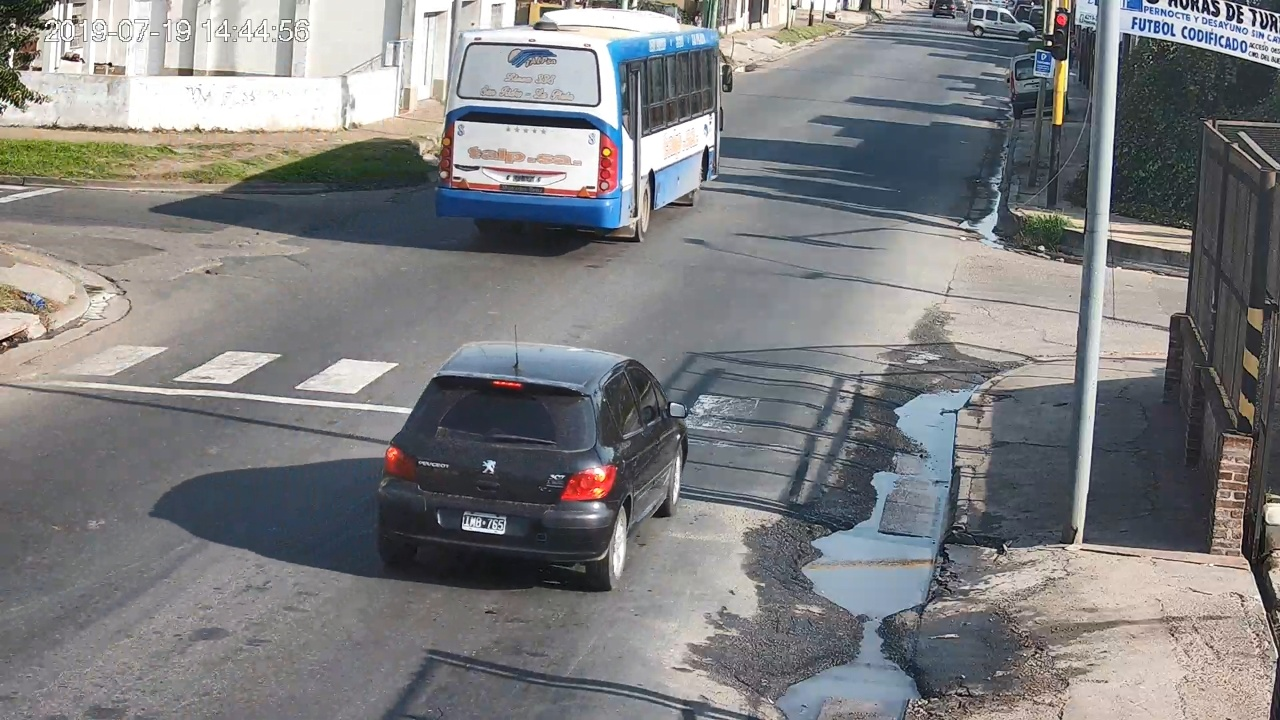bus: (435, 8, 734, 245)
car: (377, 340, 689, 591)
traffic light: (1054, 11, 1068, 61)
